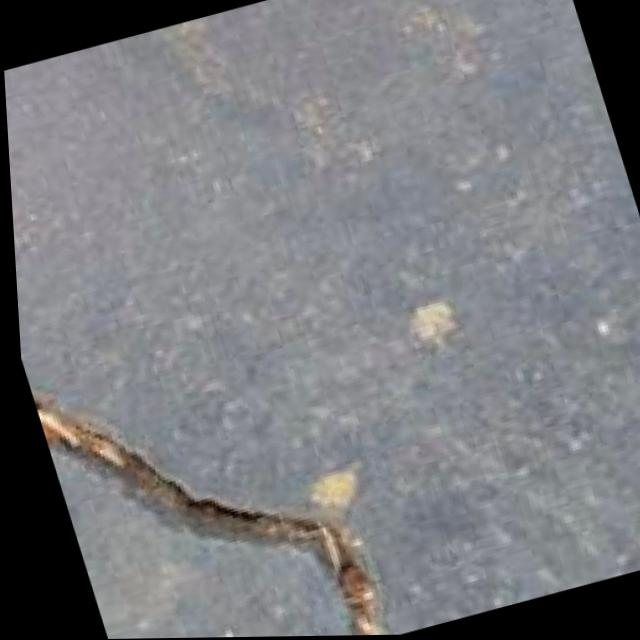Crack: (27, 323, 395, 640)
